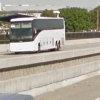Bus: (7, 12, 68, 56)
